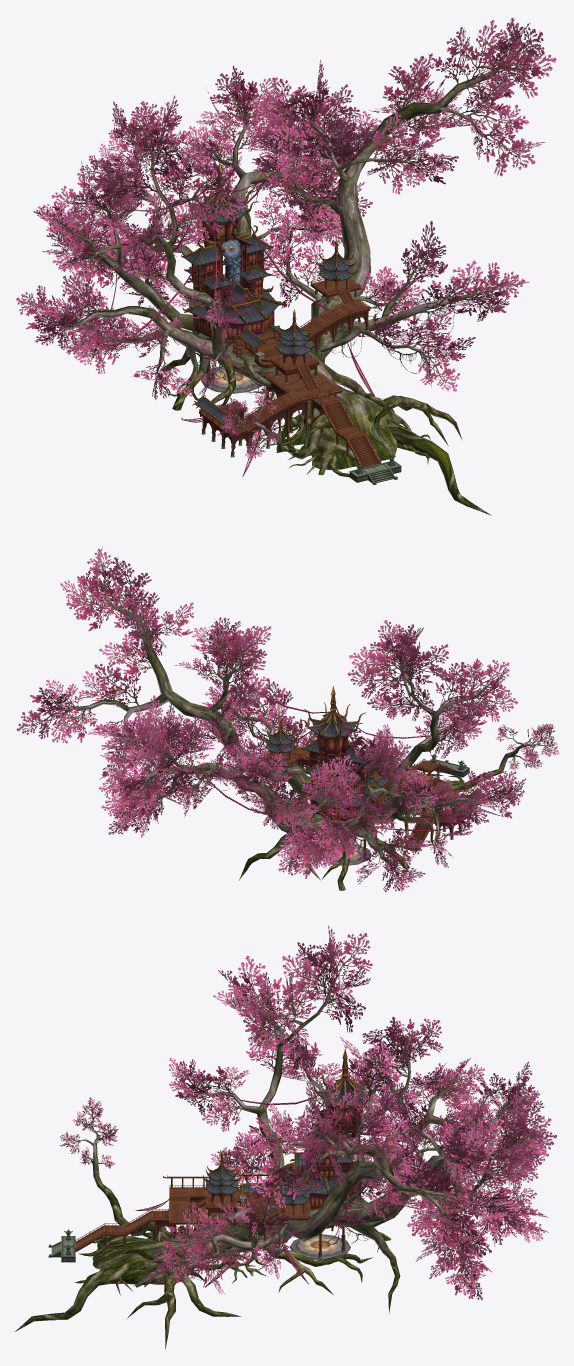
Rendered from Maincity11_Building_thd_01_LOD0.FBX.
3 renders of one model, top to bottom at view 1: azimuth 30°, elevation 25°; view 2: azimuth 150°, elevation 25°; view 3: azimuth 270°, elevation 25°, orthographic. The views are drawn at different scales.
Visible parts, largest first — view 1: Maincity11_Grasses_thd_01_LOD0, Maincity11_Building_thd_01_LOD0; view 2: Maincity11_Grasses_thd_01_LOD0, Maincity11_Building_thd_01_LOD0; view 3: Maincity11_Grasses_thd_01_LOD0, Maincity11_Building_thd_01_LOD0.
Boxes of the visible parts, box(x1,y1,x2,y2) form: Maincity11_Grasses_thd_01_LOD0: box(16, 17, 556, 459); Maincity11_Building_thd_01_LOD0: box(53, 47, 520, 515); Maincity11_Grasses_thd_01_LOD0: box(16, 547, 559, 892); Maincity11_Building_thd_01_LOD0: box(56, 577, 549, 890); Maincity11_Grasses_thd_01_LOD0: box(59, 925, 556, 1300); Maincity11_Building_thd_01_LOD0: box(15, 966, 531, 1349).
Size of the model in its own units: 16084 by 9876 by 15067.
